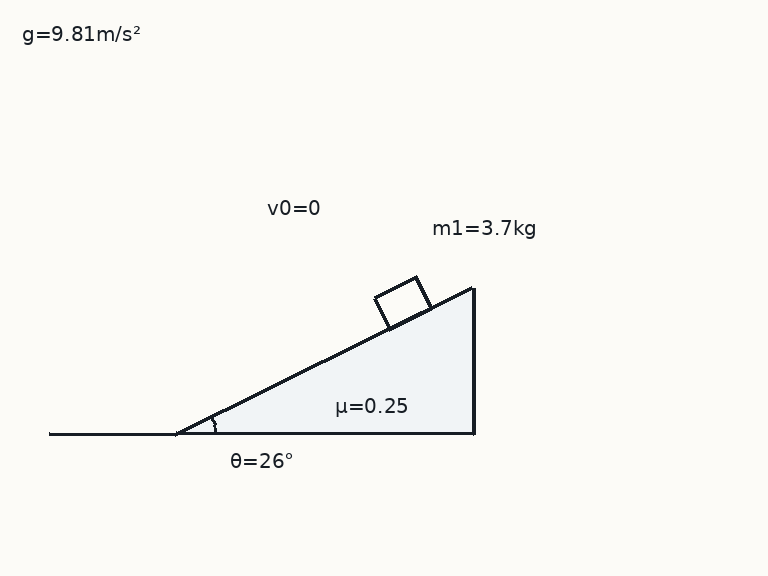block: (372, 276, 433, 331)
ramp: (173, 286, 474, 435)
